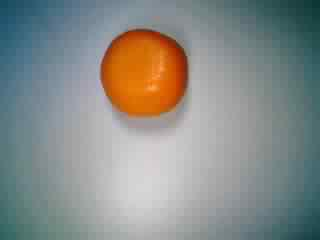orange: (95, 21, 190, 123)
